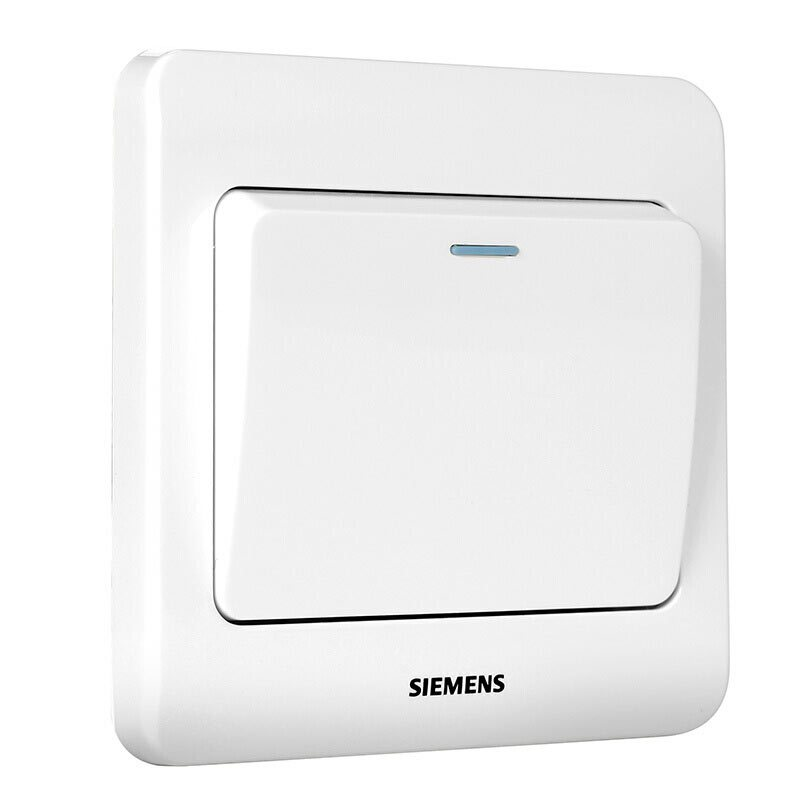button: (111, 52, 733, 766)
